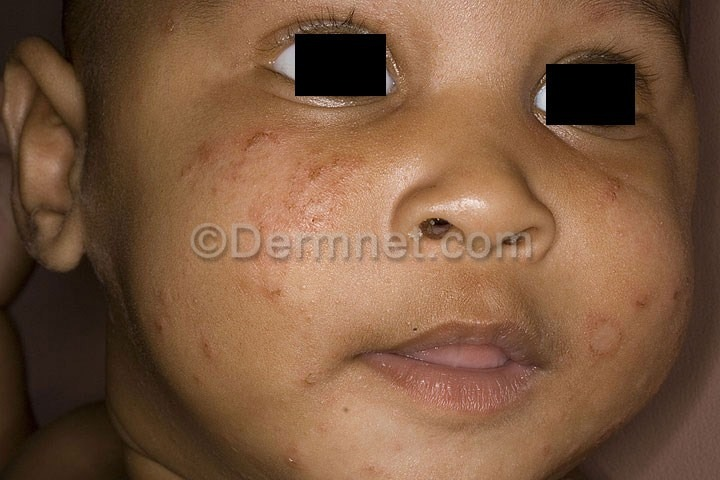Eczema: (145, 131, 381, 317), (148, 320, 343, 480), (563, 282, 691, 425), (587, 168, 632, 232), (151, 15, 181, 38)
